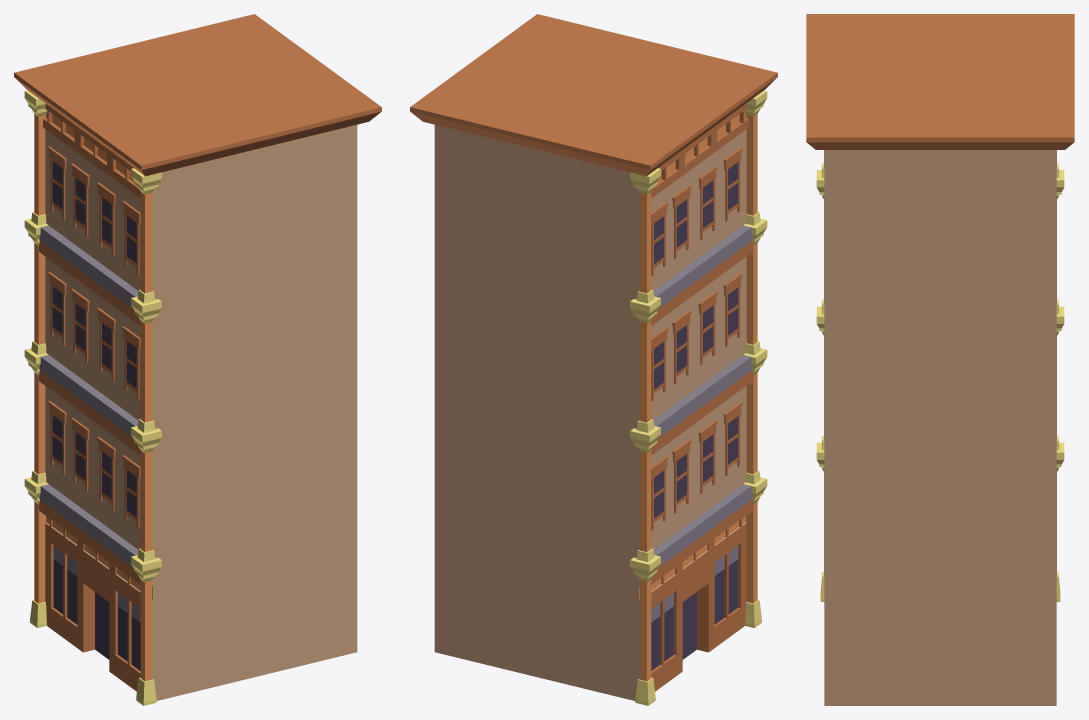
Rendered from building 6 - yellow.fbx.
The picture shows the model from 3 angles, left to right: view 1: azimuth 30°, elevation 25°; view 2: azimuth 150°, elevation 25°; view 3: azimuth 270°, elevation 25°; orthographic projection. The views are drawn at different scales.
Parts seen in each view (by area): view 1: pCube1, pCube2, pCube4, pCube3, pCube5, pCube6, pCube9, pCube8, pCube7; view 2: pCube1, pCube6, pCube8, pCube7, pCube9, pCube2, pCube5, pCube4, pCube3; view 3: pCube1.
Part boxes in pixels (bbox=[...]): pCube1: bbox=[14, 14, 381, 700]; pCube2: bbox=[131, 555, 161, 705]; pCube4: bbox=[131, 296, 161, 432]; pCube3: bbox=[131, 426, 161, 561]; pCube5: bbox=[131, 168, 161, 303]; pCube6: bbox=[24, 477, 48, 627]; pCube9: bbox=[24, 90, 47, 225]; pCube8: bbox=[24, 218, 48, 354]; pCube7: bbox=[24, 348, 48, 484]; pCube1: bbox=[410, 14, 777, 700]; pCube6: bbox=[630, 555, 660, 705]; pCube8: bbox=[630, 296, 660, 432]; pCube7: bbox=[630, 426, 660, 561]; pCube9: bbox=[630, 168, 660, 303]; pCube2: bbox=[743, 477, 767, 627]; pCube5: bbox=[744, 90, 767, 225]; pCube4: bbox=[743, 218, 767, 354]; pCube3: bbox=[743, 348, 767, 484]; pCube1: bbox=[806, 14, 1074, 705].
Bounding box in the file's own units: 10.13 × 22.03 × 9.29.
